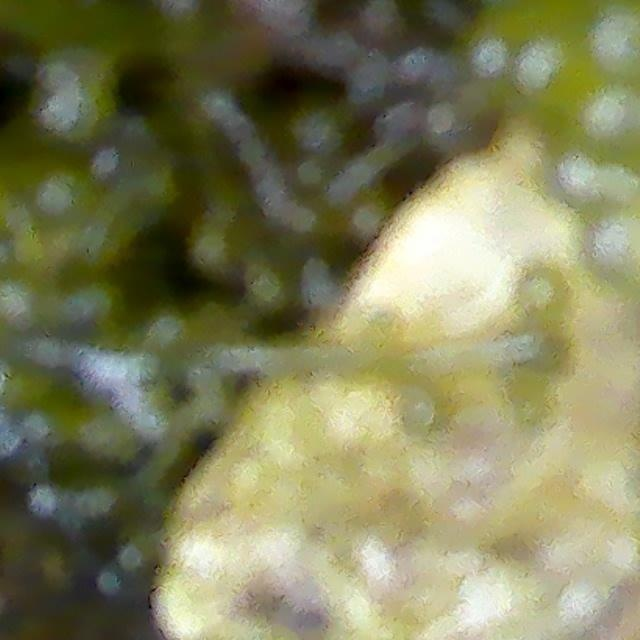SeaGrape: (516, 39, 595, 119), (587, 81, 640, 168)
